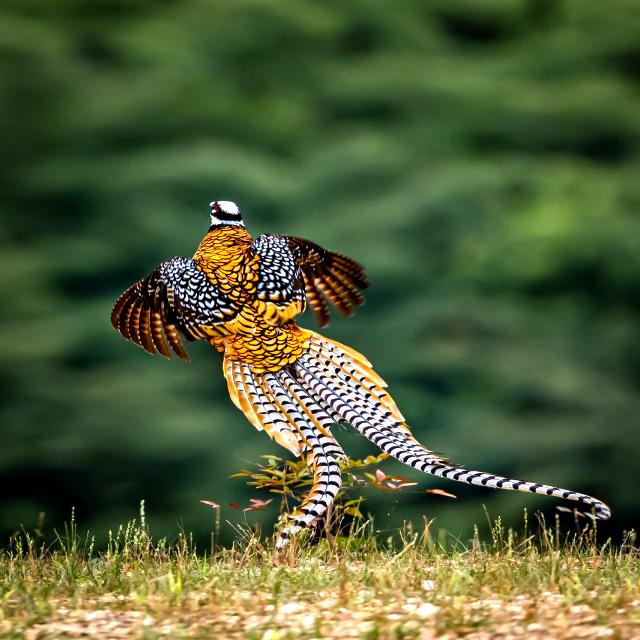Reeves-s Pheasant: (222, 327, 612, 555)
